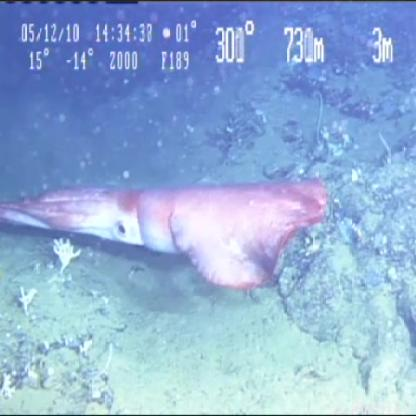Bio: (1, 173, 333, 302), (50, 234, 83, 280)
